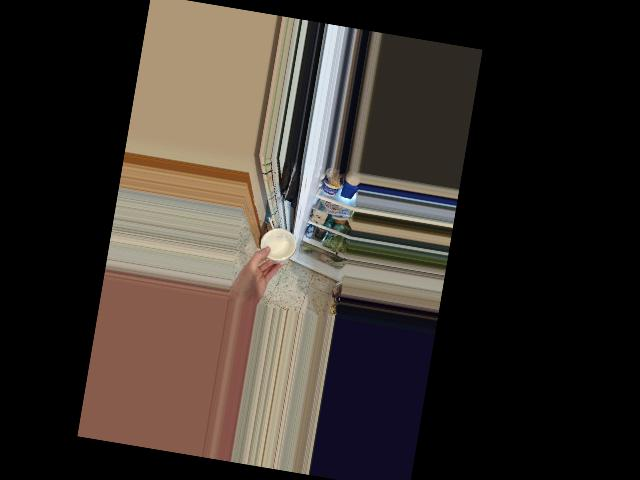cotage: (260, 221, 300, 263)
